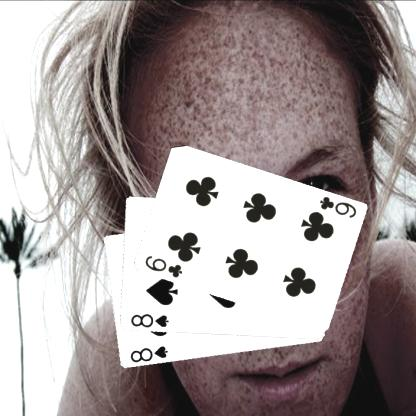6C: (142, 253, 183, 279), (316, 194, 358, 219)
8S: (127, 344, 169, 364), (128, 312, 170, 329)
